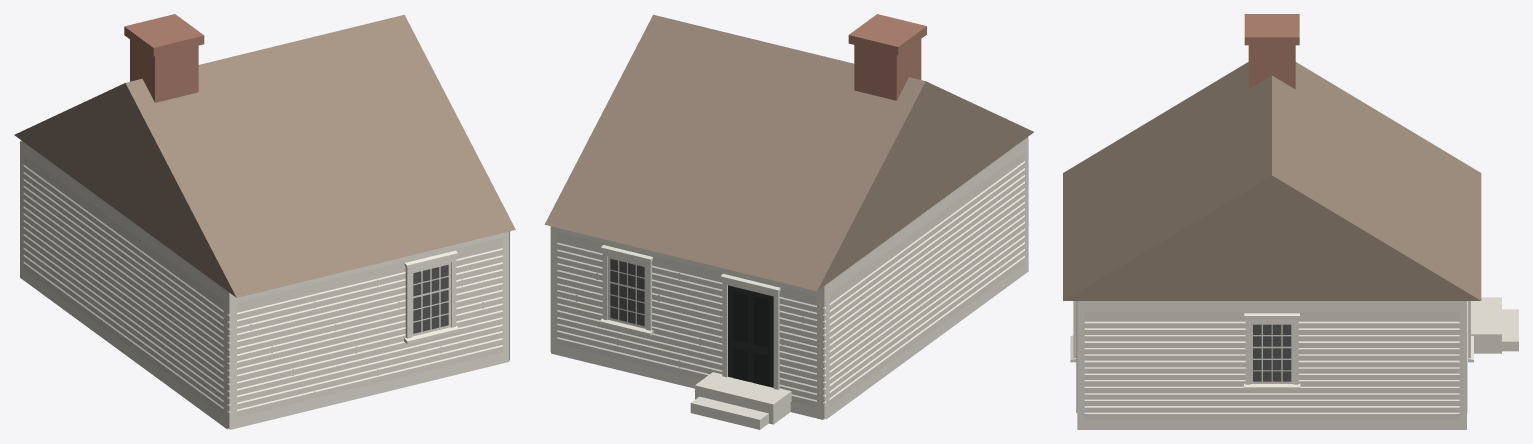
The model's file is recon_1835_south_d3_013__inferred_1835.glb.
3 renders of one model, left to right at view 1: azimuth 30°, elevation 25°; view 2: azimuth 150°, elevation 25°; view 3: azimuth 270°, elevation 25°, orthographic. The views are drawn at different scales.
Parts seen in each view (by area): view 1: recon_1835_south_d3_013__inferred_1835; view 2: recon_1835_south_d3_013__inferred_1835; view 3: recon_1835_south_d3_013__inferred_1835.
Part boxes in pixels (box(x1,y1,x2,y2)): recon_1835_south_d3_013__inferred_1835: box(14, 14, 515, 429); recon_1835_south_d3_013__inferred_1835: box(544, 14, 1033, 429); recon_1835_south_d3_013__inferred_1835: box(1063, 14, 1518, 429).
Bounding box in the file's own units: 5.53 × 5.76 × 8.1.
